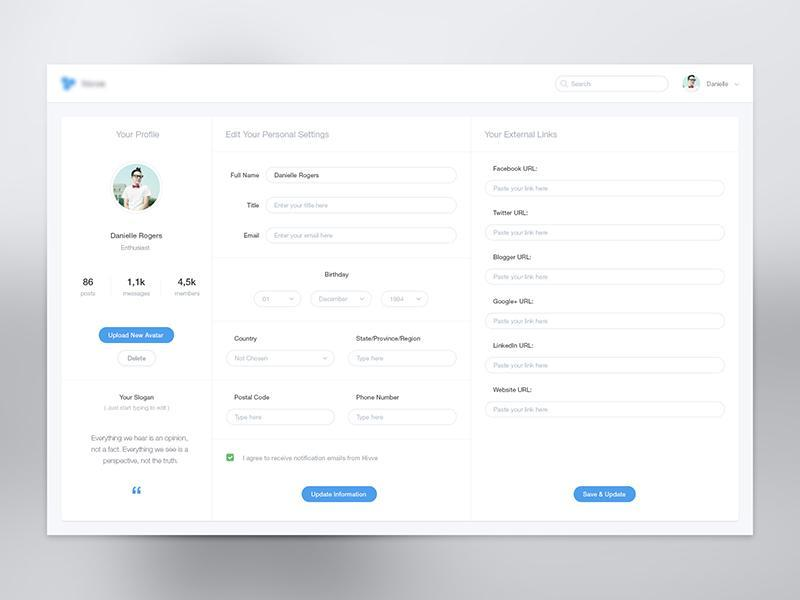button: (299, 482, 382, 505), (100, 324, 173, 346), (574, 485, 636, 505), (117, 350, 159, 370)
checkbox: (225, 450, 236, 467)
dropdown: (226, 348, 335, 371), (311, 288, 375, 313), (254, 288, 305, 314), (380, 289, 432, 312), (706, 77, 746, 94)
icon: (113, 165, 161, 214), (684, 74, 700, 95)
input: (484, 311, 731, 338), (486, 356, 729, 379), (482, 179, 732, 200), (484, 266, 732, 287), (265, 193, 465, 218), (485, 225, 731, 245), (484, 401, 728, 421), (261, 226, 466, 249), (263, 166, 462, 189), (554, 73, 675, 97), (347, 407, 462, 430), (224, 408, 338, 430), (350, 350, 461, 369)
label: (240, 455, 384, 466), (354, 334, 423, 345), (492, 296, 540, 309), (490, 165, 540, 176), (356, 392, 404, 403), (234, 392, 273, 404), (490, 341, 536, 351), (493, 385, 534, 396), (491, 254, 534, 263), (229, 170, 262, 181), (489, 210, 533, 218), (241, 228, 261, 242), (324, 271, 355, 280), (233, 334, 260, 343), (243, 199, 259, 212)
